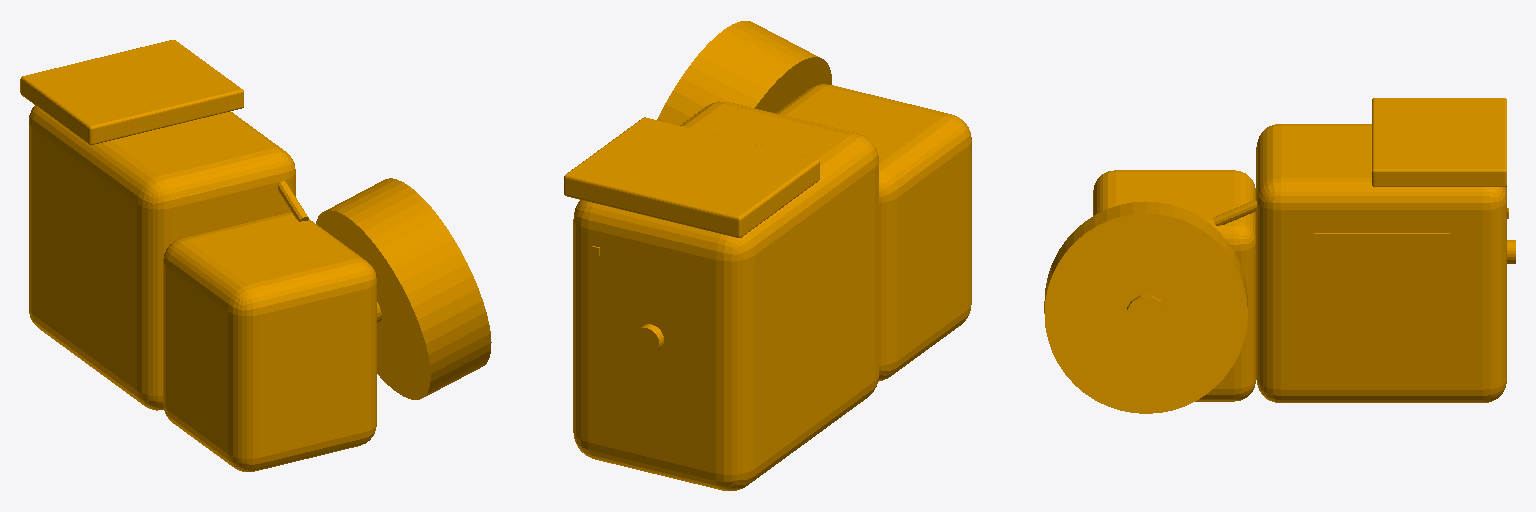
robot.urdf — daihen_cm_7403:
<?xml version="1.0"?>
<robot name="daihen_cm_7403">
<link name="base_link"><visual ><geometry ><mesh filename="../meshes/base_link.obj"/></geometry></visual><collision ><origin xyz="0 0.13675 0.106" rpy="0 0 0"/><geometry ><box size="0.254 0.3615 0.212"/></geometry></collision><collision ><origin xyz="0 0.086 0.2785" rpy="0 0 0"/><geometry ><box size="0.254 0.26 0.133"/></geometry></collision><collision ><origin xyz="0 0.2595 0.245" rpy="0 0 0"/><geometry ><box size="0.254 0.087 0.066"/></geometry></collision><collision ><origin xyz="0 -0.14075 0.1935" rpy="0 0 0"/><geometry ><box size="0.254 0.3055 0.387"/></geometry></collision><collision ><origin xyz="0 0.023 0.369" rpy="0 0 0"/><geometry ><box size="0.174 0.066 0.048"/></geometry></collision></link>
<link name="mount"></link>
<link name="torch_outlet_frame"></link>
<joint name="mount_joint" type="fixed"><parent link="base_link"/><child link="mount"/><origin xyz="0 0 0" rpy="0 0 0"/></joint>
<joint name="torch_outlet_joint" type="fixed"><parent link="base_link"/><child link="torch_outlet_frame"/><origin xyz="0.052 0.3175 0.115" rpy="-1.57079632679 0 0"/></joint>
</robot>

--- Facts derived from the render (not from the file) ---
Views: 3 orthographic renders of the robot side by side, from view 1: azimuth 30°, elevation 25°; view 2: azimuth 150°, elevation 25°; view 3: azimuth 270°, elevation 25°.
Robot: daihen_cm_7403 — 3 links, 2 joints (2 fixed); root link base_link; default pose: all joints at 0.
Links seen in each view (by area): view 1: base_link; view 2: base_link; view 3: base_link.
Link boxes in pixels (box(x1,y1,x2,y2)): base_link: box(20, 40, 491, 471); base_link: box(564, 21, 971, 490); base_link: box(1044, 98, 1515, 413).
Size in the robot's own frame: 0.409 by 0.6945 by 0.393 metres.
Meshes: 1 distinct files referenced, 1 mesh visuals loaded (1 OBJ).
